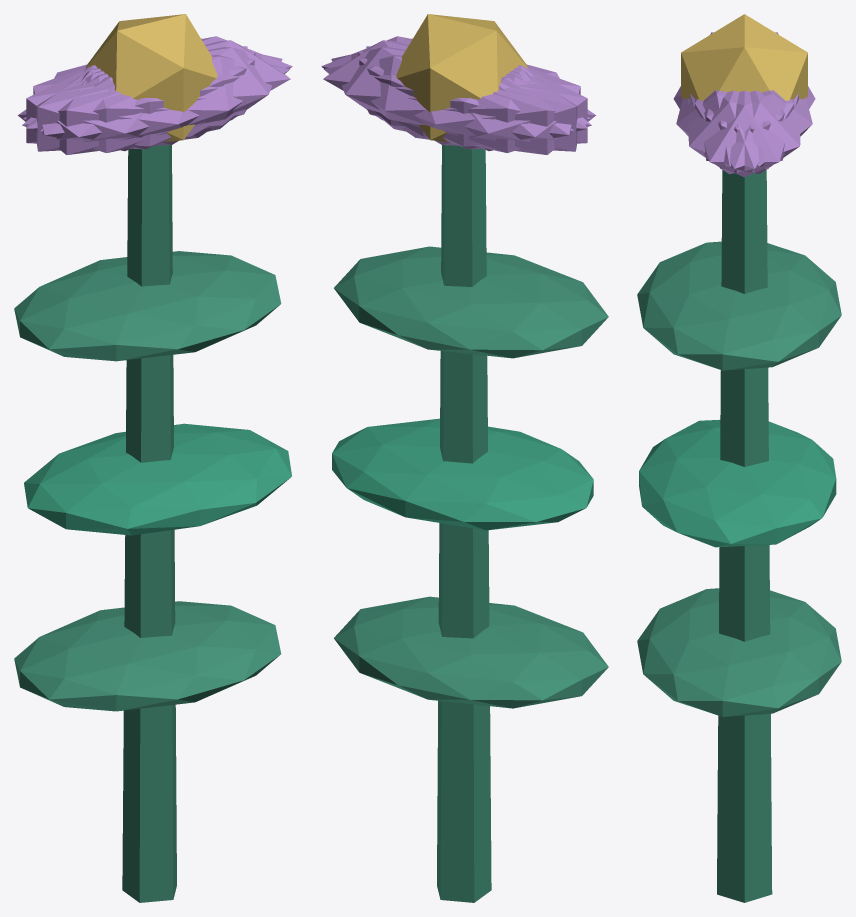
File: grona-triflora.glb
The picture shows the model from 3 angles, left to right: view 1: azimuth 30°, elevation 25°; view 2: azimuth 150°, elevation 25°; view 3: azimuth 270°, elevation 25°; orthographic projection.
Visible parts, largest first — view 1: stem, leaf1, leaf2, leaf0, center, petal1, petal6, petal2, petal5, petal7, petal0, petal4 (+2 smaller); view 2: stem, leaf2, leaf0, leaf1, center, petal8, petal3, petal7, petal4, petal2, petal0, petal5 (+2 smaller); view 3: stem, leaf2, leaf1, leaf0, center, petal0, petal5, petal4, petal1, petal8.
Boxes of the visible parts, x1,y1,x2,y2 form: stem: (122, 145, 176, 902); leaf1: (24, 423, 291, 535); leaf2: (14, 251, 281, 361); leaf0: (14, 601, 281, 711); center: (85, 14, 217, 142); petal1: (22, 54, 289, 152); petal6: (17, 66, 211, 154); petal2: (36, 46, 247, 151); petal5: (40, 47, 282, 146); petal7: (26, 52, 255, 149); petal0: (85, 40, 290, 136); petal4: (23, 36, 292, 128); stem: (437, 145, 491, 902); leaf2: (334, 246, 608, 358); leaf0: (334, 596, 608, 708); leaf1: (332, 418, 593, 530); center: (396, 14, 528, 142); petal8: (324, 54, 591, 152); petal3: (402, 66, 596, 154); petal7: (366, 46, 577, 151); petal4: (331, 47, 573, 146); petal2: (358, 52, 587, 149); petal0: (323, 40, 528, 136); petal5: (321, 36, 590, 128); stem: (717, 170, 772, 902); leaf2: (637, 241, 841, 370); leaf1: (639, 419, 836, 547); leaf0: (637, 588, 841, 716); center: (681, 14, 807, 100); petal0: (690, 90, 798, 177); petal5: (688, 90, 794, 174); petal4: (695, 90, 800, 174); petal1: (676, 90, 784, 166); petal8: (704, 90, 812, 166).
Bounding box in the file's own units: 0.1452 × 0.457 × 0.0986.
